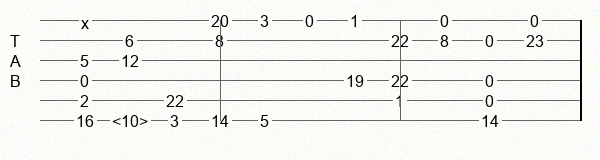0: (80, 72, 93, 88), (305, 12, 318, 28), (440, 12, 453, 28), (485, 32, 498, 48), (485, 72, 498, 88), (485, 92, 498, 108), (530, 12, 543, 28)
1: (350, 12, 363, 28), (395, 92, 408, 108)
12: (121, 52, 143, 68)
14: (211, 112, 233, 128), (481, 112, 503, 128)
16: (76, 112, 98, 128)
19: (346, 72, 368, 88)
2: (80, 92, 93, 108)
20: (211, 12, 233, 28)
22: (166, 92, 188, 108), (391, 32, 413, 48), (391, 72, 413, 88)
23: (526, 32, 548, 48)
3: (170, 112, 183, 128), (260, 12, 273, 28)
5: (80, 52, 93, 68), (260, 112, 273, 128)
6: (125, 32, 138, 48)
8: (215, 32, 228, 48), (440, 32, 453, 48)
harmonic: (112, 112, 152, 128)
x: (81, 14, 93, 27)
